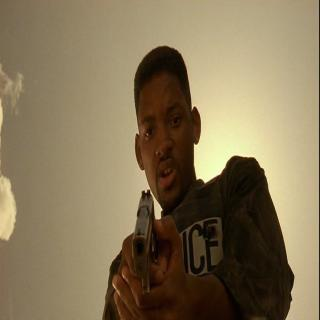gun: (115, 179, 178, 318)
